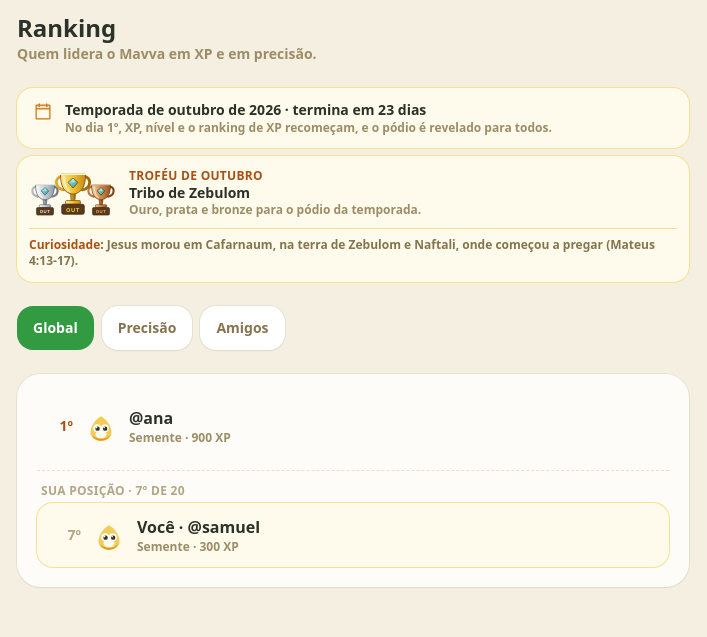
Test: RankingPage › Precisão tab › filters by elo, starting at Espiga
Click the button "Precisão" at (147, 328), box [102,306,192,350]
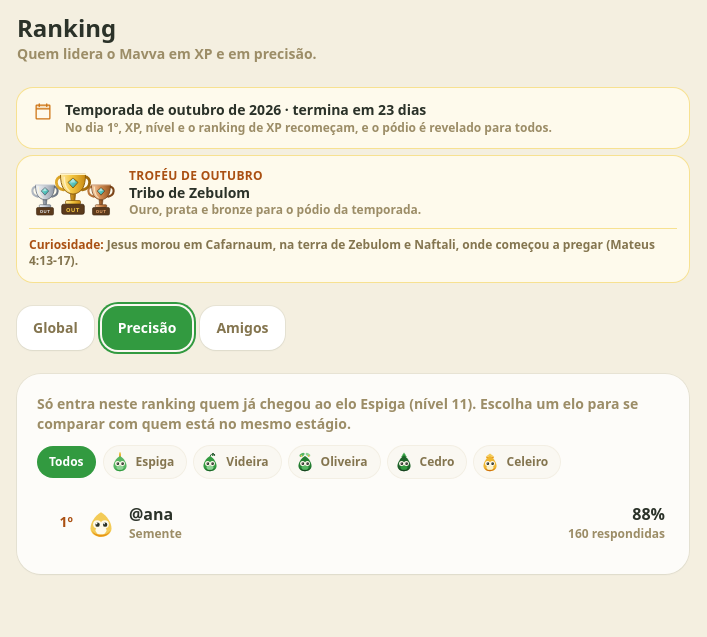
expect the text "Só entra neste ranking quem já chegou ao elo Espiga (nível 11)" is shown: met, box [37,394,669,434]
expect the buttons read "Todos", "Espiga", "Videira", "Oliveira", "Cedro", "Celeiro", in this order: met
Click the button "Videira" at (237, 462), box [194,446,281,478]
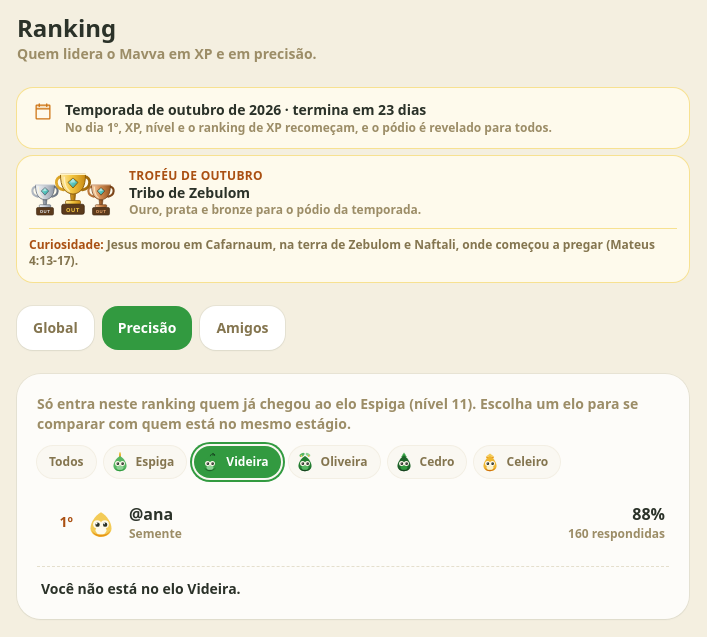
expect the text "Você não está no elo Videira." is shown: met, box [37,566,669,598]
